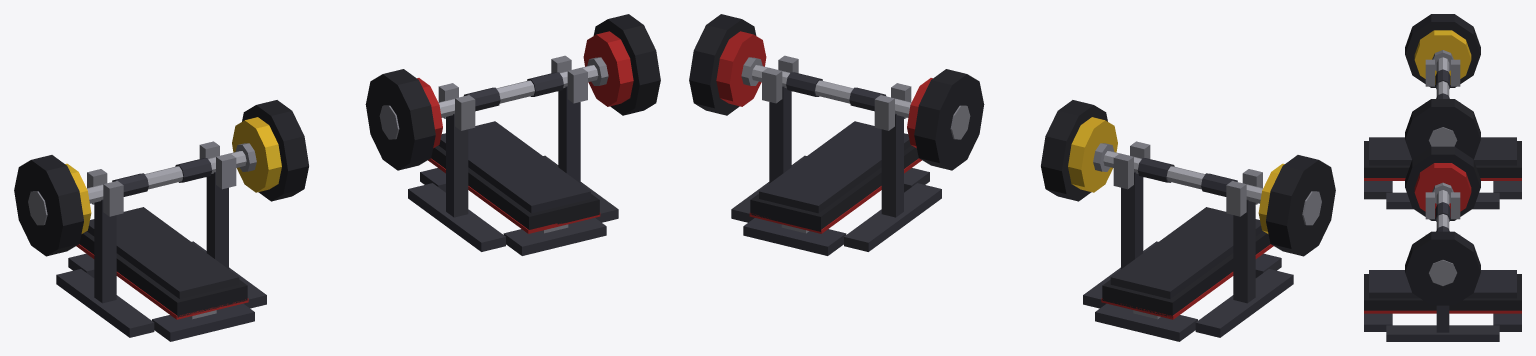
The model's file is Decor_GymHall_Benches.fbx.
3 renders of one model, left to right at view 1: azimuth 30°, elevation 25°; view 2: azimuth 150°, elevation 25°; view 3: azimuth 270°, elevation 25°, orthographic. The views are drawn at different scales.
Visible parts, largest first — view 1: Benches_Body; view 2: Benches_Body; view 3: Benches_Body.
Part boxes in pixels (x1,y1,x2,y2): Benches_Body: [14, 14, 660, 341]; Benches_Body: [689, 14, 1335, 341]; Benches_Body: [1364, 14, 1521, 341].
Size of the model in its own units: 17 by 4.3 by 5.
